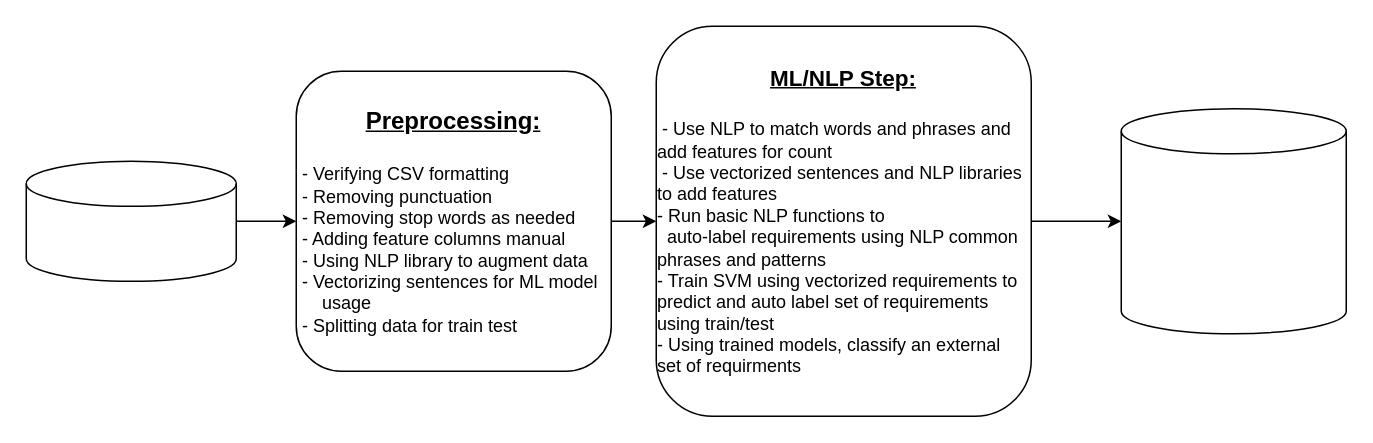
The diagram is 1373 pixels wide and 443 high, and some of its shapes have lost their labels. Each missing label, with the box of its shape:
CSV of Requirements: (25, 160, 236, 281)
Output CSV: - New column with classifications added: (1120, 107, 1346, 334)
